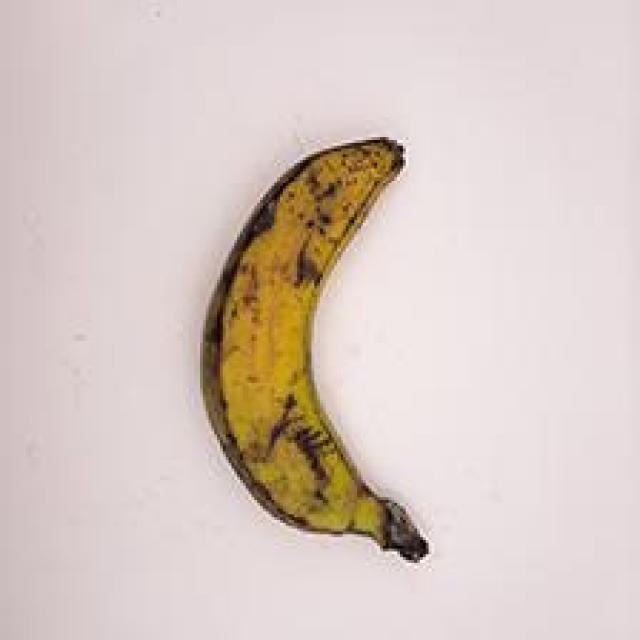Overripe: (143, 110, 482, 574)
